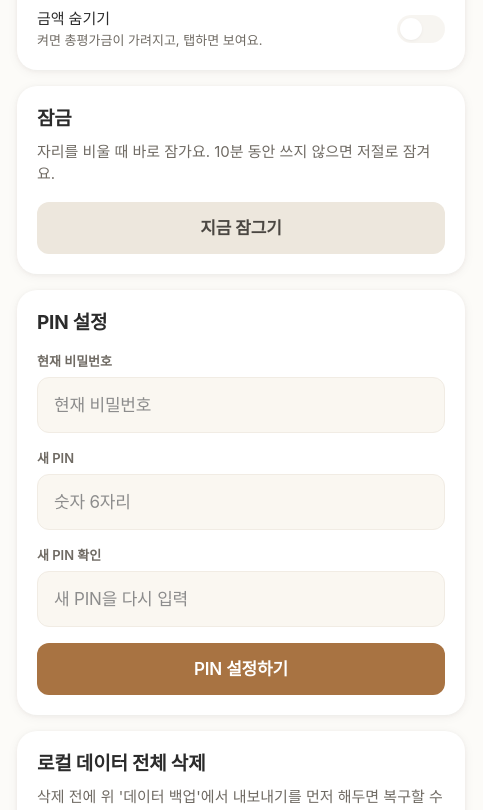
Test: SettingsPage — 섹션 제목 렌더링 › 새 PIN이 숫자 6자리가 아니면 에러를 보여준다
(page scrolled)
In the password field labelled "현재 비밀번호": (241, 405) [37,377,445,433], type "기존비밀번호"
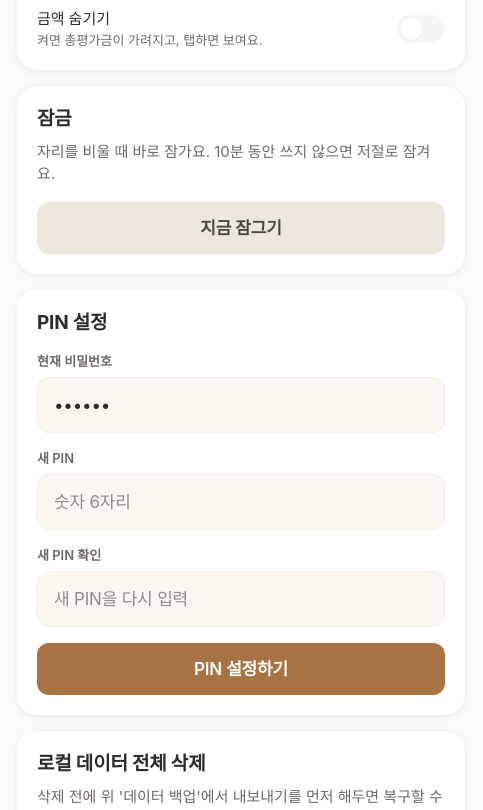
In the password field labelled "새 PIN": (241, 502) [37,474,445,530], type "123"
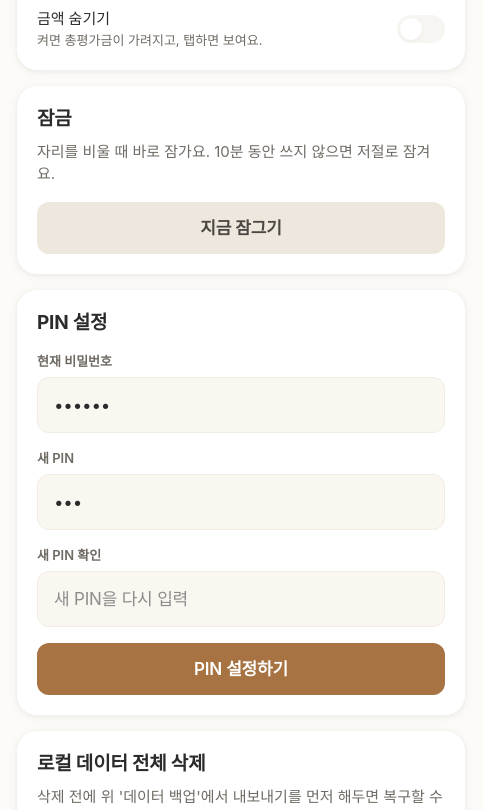
In the password field labelled "새 PIN 확인": (241, 599) [37,571,445,627], type "123"
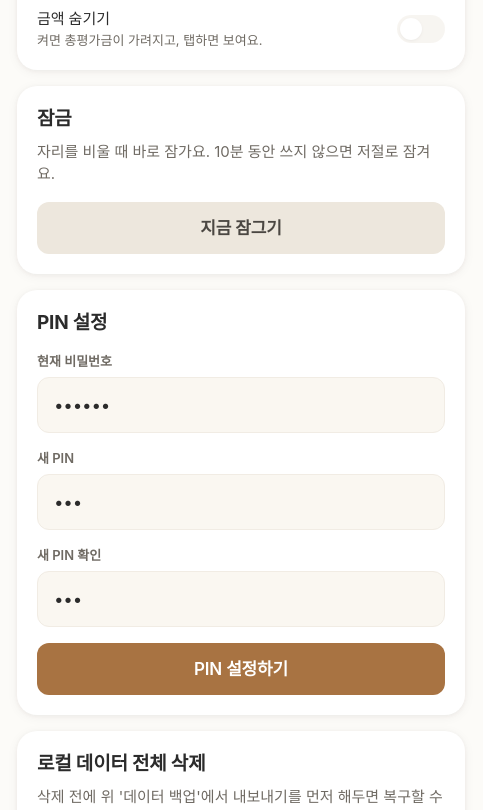
Click the button "PIN 설정하기": (241, 669) [37,643,445,695]
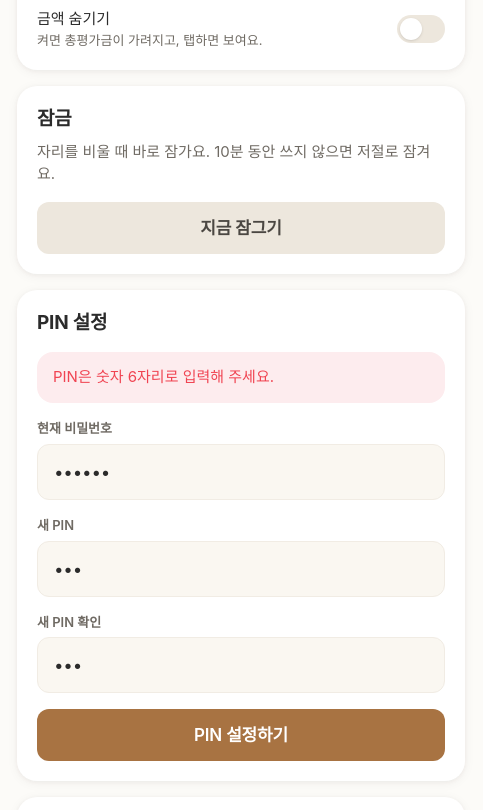
Expected: the message "PIN은 숫자 6자리로 입력해 주세요." is shown, [37,352,445,403]
Expected: the message shows "숫자 6자리", [53,367,274,386]
